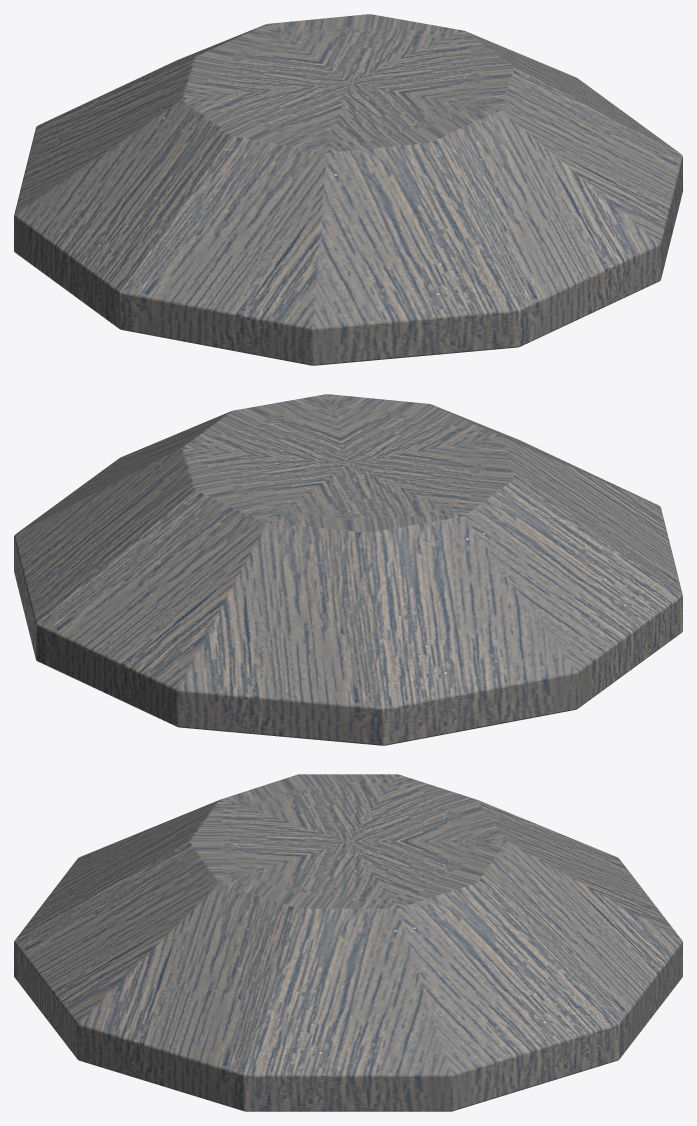
File: GazeboRoofMid.obj
The picture shows the model from 3 angles, top to bottom: view 1: azimuth 30°, elevation 25°; view 2: azimuth 150°, elevation 25°; view 3: azimuth 270°, elevation 25°; orthographic projection. The views are drawn at different scales.
Parts seen in each view (by area): view 1: GazeboRoof9; view 2: GazeboRoof9; view 3: GazeboRoof9.
Part boxes in pixels (left/top/right/bottom): GazeboRoof9: left=14, top=14, right=682, bottom=365; GazeboRoof9: left=14, top=394, right=682, bottom=745; GazeboRoof9: left=14, top=774, right=682, bottom=1111.
Size of the model in its own units: 759 by 180 by 797.
1 material, 1 textured.
